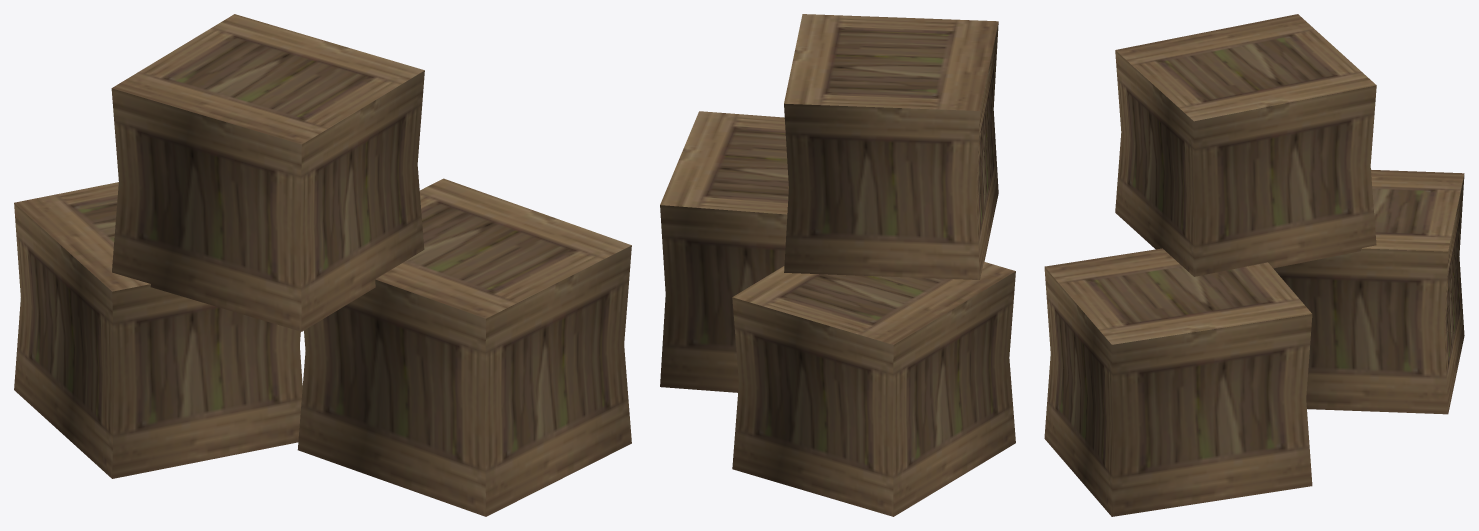
Rendered from Map_04_wooden01.FBX.
3 renders of one model, left to right at view 1: azimuth 30°, elevation 25°; view 2: azimuth 150°, elevation 25°; view 3: azimuth 270°, elevation 25°, orthographic. The views are drawn at different scales.
Parts seen in each view (by area): view 1: Map_04_wooden01; view 2: Map_04_wooden01; view 3: Map_04_wooden01.
Boxes of the visible parts, x1,y1,x2,y2 form: Map_04_wooden01: (14, 14, 631, 516); Map_04_wooden01: (660, 14, 1015, 516); Map_04_wooden01: (1044, 14, 1464, 516).
Size of the model in its own units: 27.29 by 22.78 by 26.44.
1 material, 1 textured.
